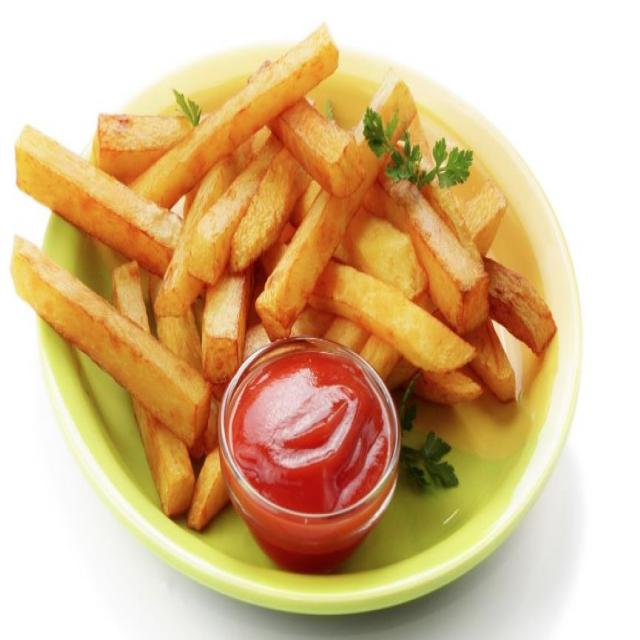Fries: (13, 16, 590, 346)
